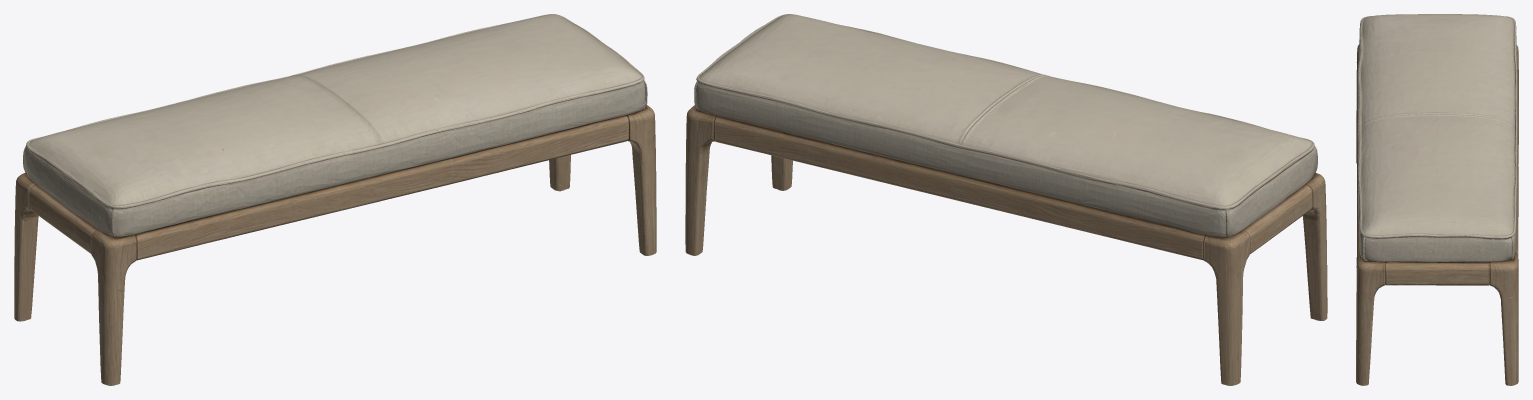
Rendered from bedroom-bench.glb.
3 views of the same model, side by side, from view 1: azimuth 30°, elevation 25°; view 2: azimuth 150°, elevation 25°; view 3: azimuth 270°, elevation 25° (orthographic). The views are drawn at different scales.
Visible parts, largest first — view 1: world; view 2: world; view 3: world.
Boxes of the visible parts, box(x1,y1,x2,y2) form: world: box(14, 14, 656, 385); world: box(685, 14, 1327, 385); world: box(1356, 14, 1518, 385).
Bounding box in the file's own units: 1 × 0.3365 × 0.304.
1 material, 1 textured.
